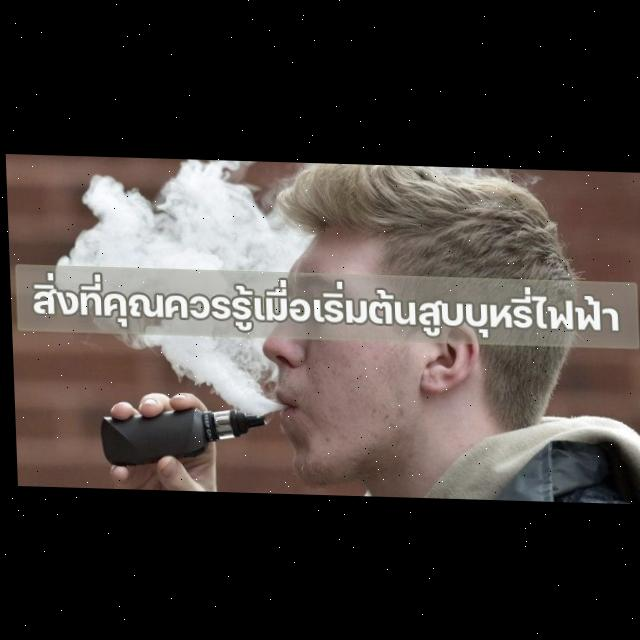vape: (98, 406, 263, 470)
